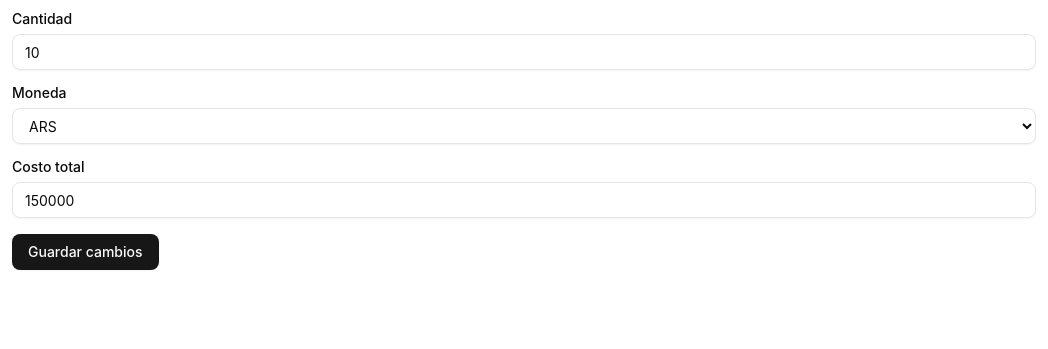
a schema failure that cannot be placed on a field is never silent › edit holding shows the unexpected error above the form and focuses it
Replace the text in the field labelled "Cantidad" with "15" at (524, 52), box 12,34 -> 1036,70
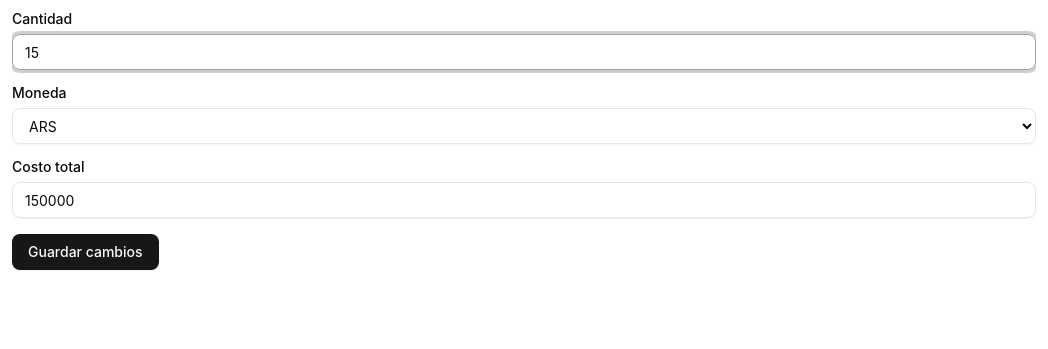
Click the button "Guardar cambios" at (85, 252), box 12,234 -> 158,270
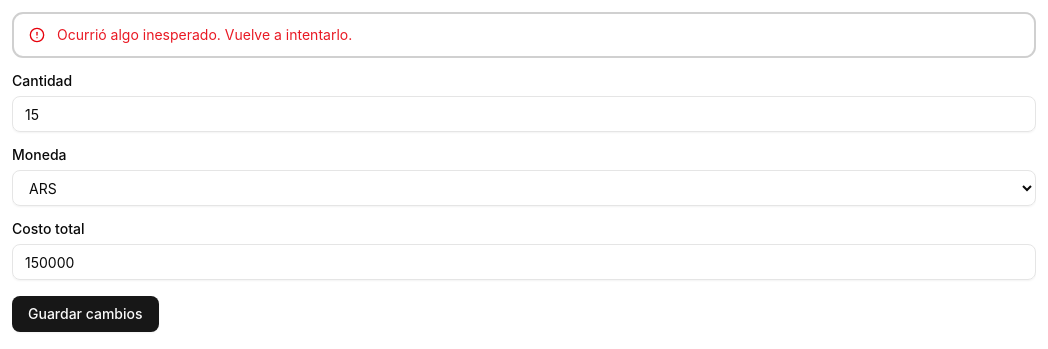
Now the message reads "Ocurrió algo inesperado. Vuelve a intentarlo.", box 57,26 -> 352,43
